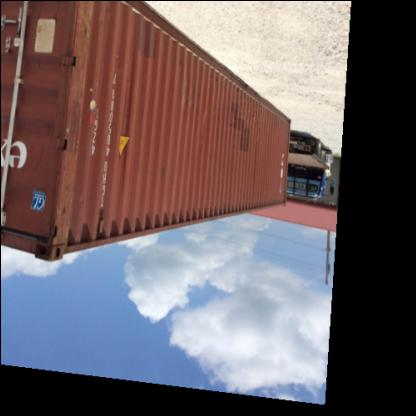Damage: (43, 13, 90, 253)
